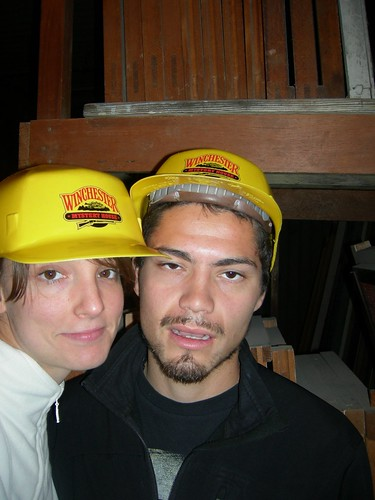person hardhat: (86, 139, 348, 496), (2, 148, 167, 500)
